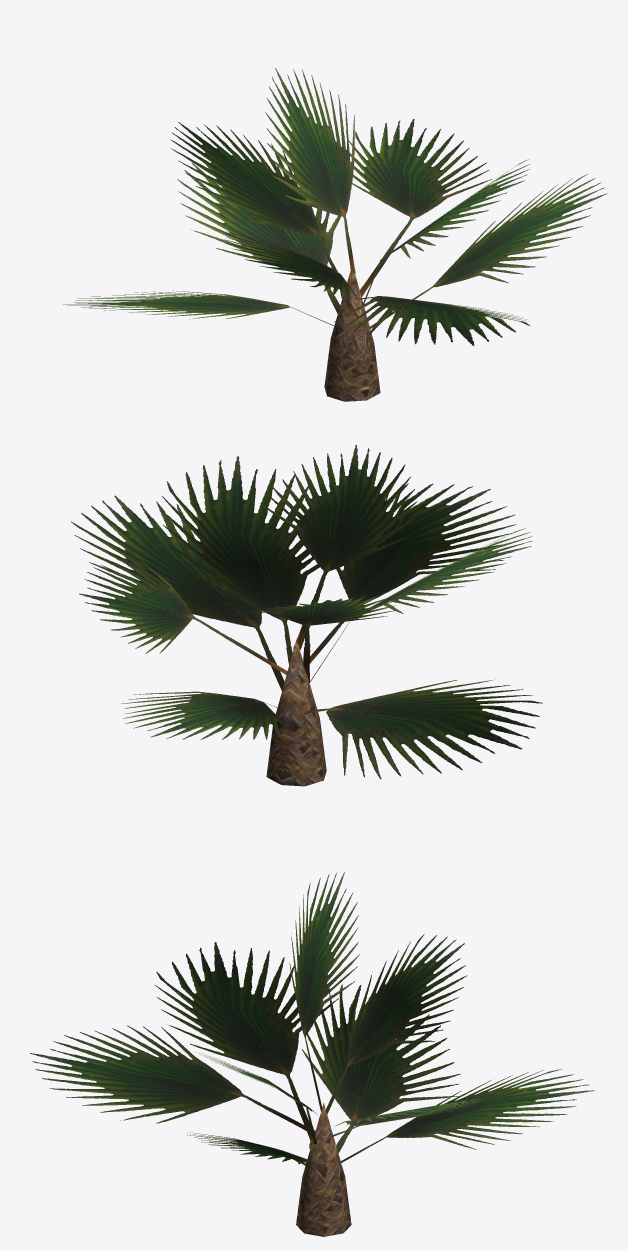
The model's file is obj__lpalm1.obj.
The picture shows the model from 3 angles, top to bottom: view 1: azimuth 30°, elevation 25°; view 2: azimuth 150°, elevation 25°; view 3: azimuth 270°, elevation 25°; orthographic projection. The views are drawn at different scales.
Visible parts, largest first — view 1: lpalm1.tga; view 2: lpalm1.tga; view 3: lpalm1.tga.
Boxes of the visible parts, x1,y1,x2,y2 form: lpalm1.tga: (63,68,607,401); lpalm1.tga: (71,445,542,786); lpalm1.tga: (30,872,594,1236).
Bounding box in the file's own units: 131 × 81.08 × 130.
1 material, 1 textured.
